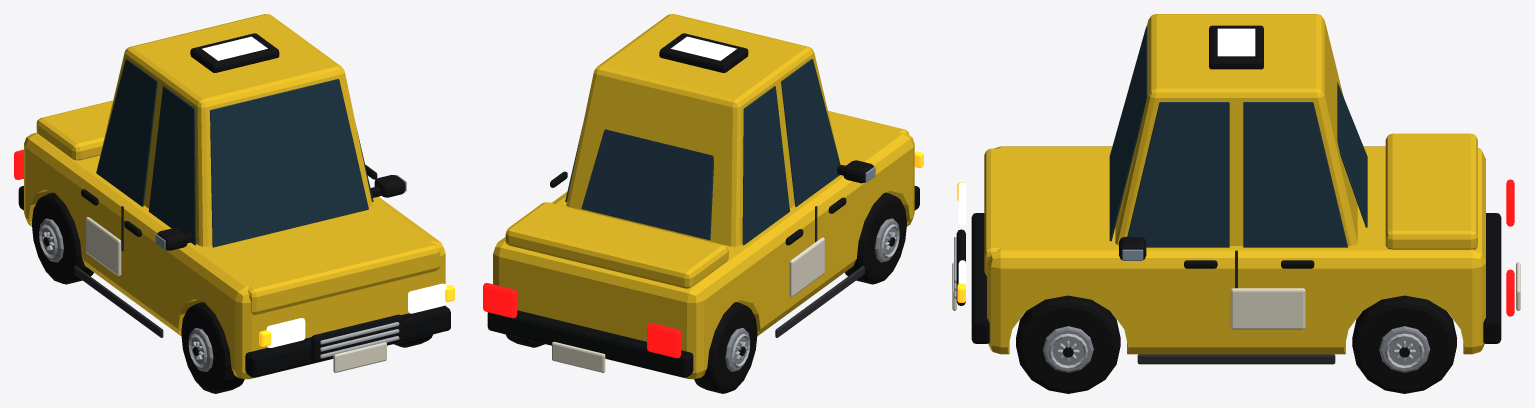
The model's file is taxi.glb.
3 renders of one model, left to right at view 1: azimuth 30°, elevation 25°; view 2: azimuth 150°, elevation 25°; view 3: azimuth 270°, elevation 25°, orthographic. The views are drawn at different scales.
Visible parts, largest first — view 1: Taxi_LowerBody, Taxi_FrontWindshield_R6, Taxi_CabinShell, Taxi_Hood, Taxi_SideWindowRear_L_R6, Taxi_SideWindowFront_L_R6, Taxi_FrontBumper, Taxi_RearDeck, Taxi_Wheel_Front_L_R3, Taxi_Wheel_Rear_L_R3, V03_Taxi_FrontGrille, V03_Taxi_RoofSignFrame (+12 smaller); view 2: Taxi_LowerBody, Taxi_CabinShell, Taxi_RearDeck, Taxi_RearWindow_R5, Taxi_SideWindowRear_L_R6, Taxi_SideWindowFront_L_R6, Taxi_RearBumper, Taxi_Wheel_Rear_L_R3, Taxi_Wheel_Front_L_R3, V03_Taxi_RoofSignFrame, V03_Taxi_DoorPlacard_L, Taxi_Hood (+8 smaller); view 3: Taxi_LowerBody, Taxi_CabinShell, Taxi_SideWindowRear_R_R6, Taxi_SideWindowFront_R_R6, Taxi_Hood, Taxi_RearDeck, Taxi_Wheel_Front_R_R3, Taxi_Wheel_Rear_R_R3, Taxi_FrontWindshield_R6, V03_Taxi_DoorPlacard_R, Taxi_RearWindow_R5, V03_Taxi_RockerTrim_R (+6 smaller).
Boxes of the visible parts, x1,y1,x2,y2 form: Taxi_LowerBody: (24, 132, 445, 379); Taxi_FrontWindshield_R6: (210, 79, 368, 247); Taxi_CabinShell: (98, 14, 372, 246); Taxi_Hood: (230, 209, 440, 314); Taxi_SideWindowRear_L_R6: (96, 59, 157, 206); Taxi_SideWindowFront_L_R6: (148, 86, 196, 245); Taxi_FrontBumper: (245, 305, 450, 377); Taxi_RearDeck: (36, 100, 113, 160); Taxi_Wheel_Front_L_R3: (181, 302, 244, 393); Taxi_Wheel_Rear_L_R3: (31, 192, 93, 284); V03_Taxi_FrontGrille: (311, 314, 403, 362); V03_Taxi_RoofSignFrame: (190, 33, 279, 72); Taxi_LowerBody: (493, 116, 914, 379); Taxi_CabinShell: (566, 14, 840, 246); Taxi_RearDeck: (505, 202, 728, 288); Taxi_RearWindow_R5: (581, 129, 713, 240); Taxi_SideWindowRear_L_R6: (742, 86, 789, 245); Taxi_SideWindowFront_L_R6: (781, 59, 840, 206); Taxi_RearBumper: (487, 310, 693, 377); Taxi_Wheel_Rear_L_R3: (694, 302, 757, 393); Taxi_Wheel_Front_L_R3: (845, 192, 906, 284); V03_Taxi_RoofSignFrame: (659, 33, 748, 72); V03_Taxi_DoorPlacard_L: (789, 237, 824, 296); Taxi_Hood: (828, 111, 909, 149); Taxi_LowerBody: (987, 146, 1485, 354); Taxi_CabinShell: (1115, 14, 1357, 245); Taxi_SideWindowRear_R_R6: (1243, 102, 1347, 247); Taxi_SideWindowFront_R_R6: (1127, 102, 1229, 247); Taxi_Hood: (984, 148, 1101, 275); Taxi_RearDeck: (1385, 133, 1477, 249); Taxi_Wheel_Front_R_R3: (1016, 295, 1120, 393); Taxi_Wheel_Rear_R_R3: (1352, 295, 1456, 393); Taxi_FrontWindshield_R6: (1109, 26, 1147, 241); V03_Taxi_DoorPlacard_R: (1230, 288, 1305, 329); Taxi_RearWindow_R5: (1337, 82, 1367, 227); V03_Taxi_RockerTrim_R: (1137, 354, 1335, 364).
Bounding box in the file's own units: 1.6 × 1.65 × 2.88.
